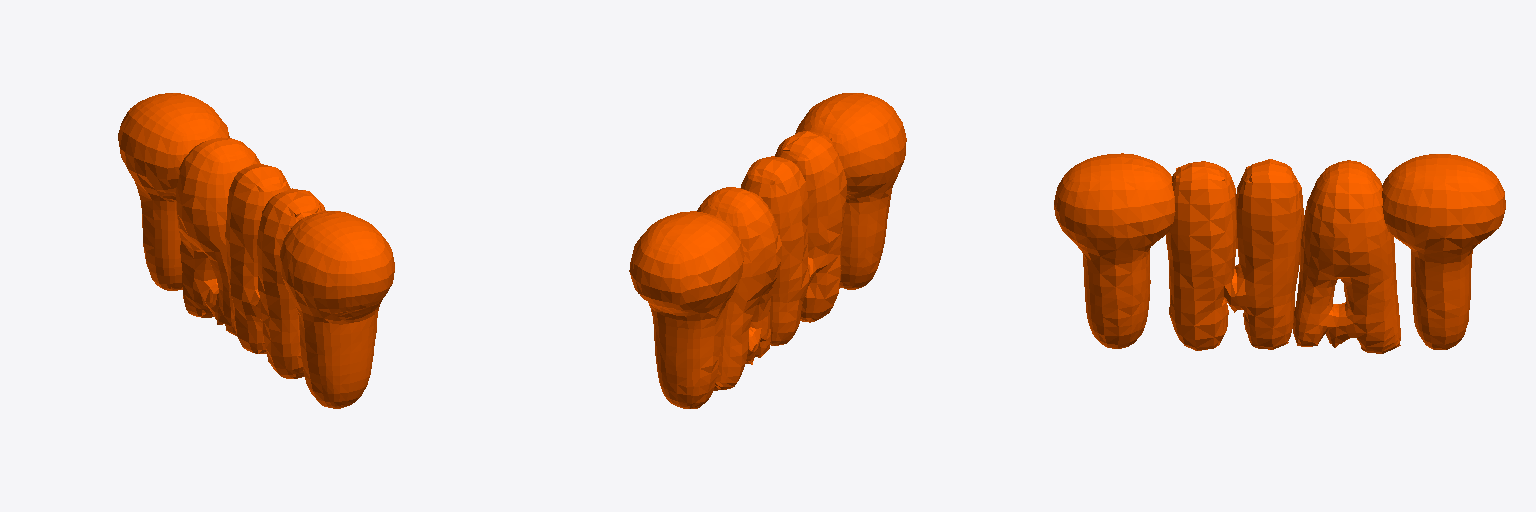
File: 08_that.obj
The picture shows the model from 3 angles: view 1: azimuth 30°, elevation 25°; view 2: azimuth 150°, elevation 25°; view 3: azimuth 270°, elevation 25°; orthographic projection.
Visible parts, largest first — view 1: _that:that; view 2: _that:that; view 3: _that:that.
Part boxes in pixels (x1,y1,x2,y2): _that:that: (118,93,394,408); _that:that: (629,93,906,408); _that:that: (1054,153,1505,353).
Size of the model in its own units: 0.1318 by 0.2532 by 0.5423.